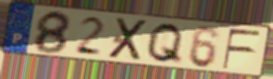2: (70, 16, 109, 56)
6: (187, 24, 223, 69)
8: (34, 9, 74, 56)
F: (221, 28, 263, 71)
Q: (144, 22, 186, 66)
X: (106, 16, 151, 62)
